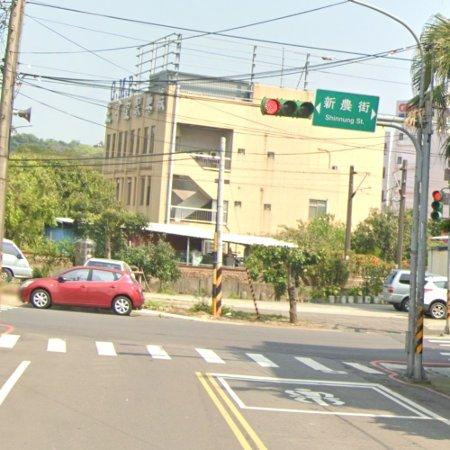crosswalks: (1, 333, 389, 376)
